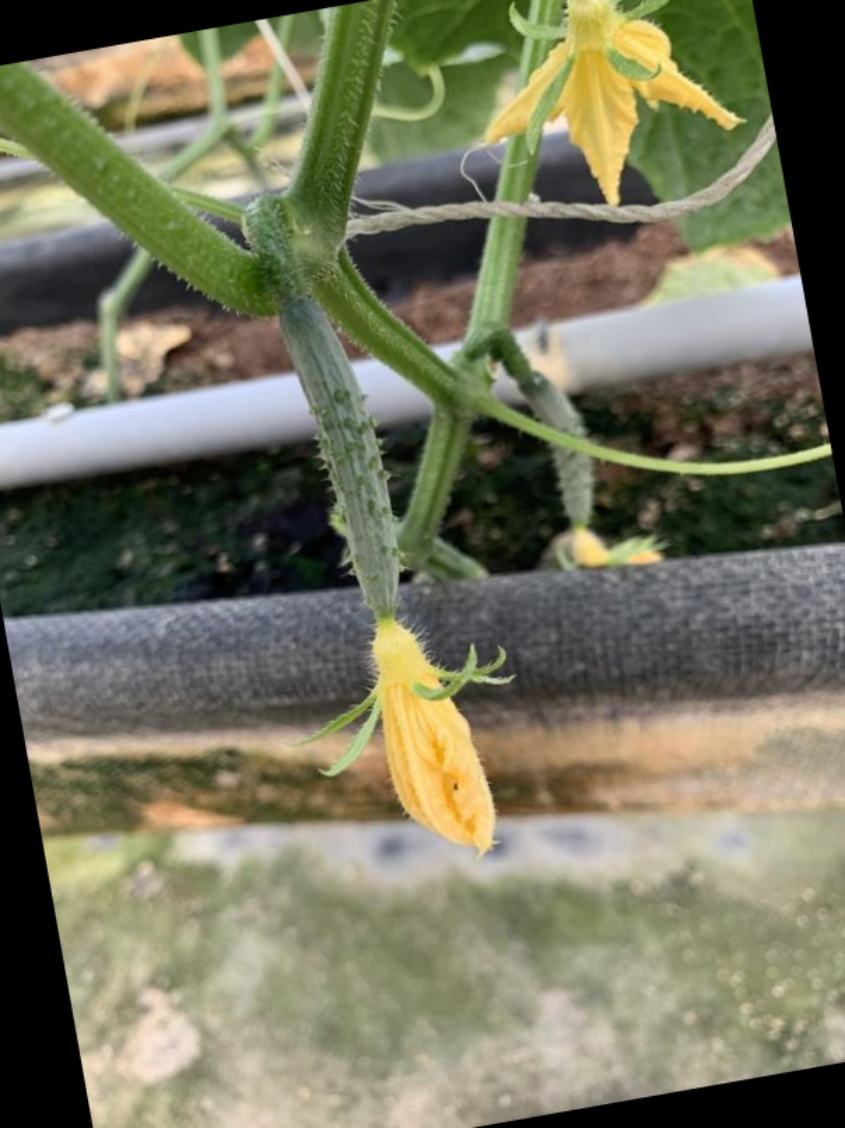bear: (260, 303, 509, 855)
